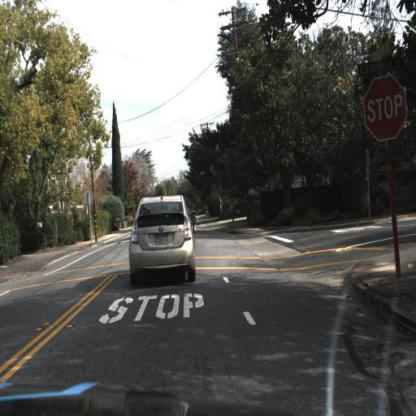car: (126, 188, 196, 289)
